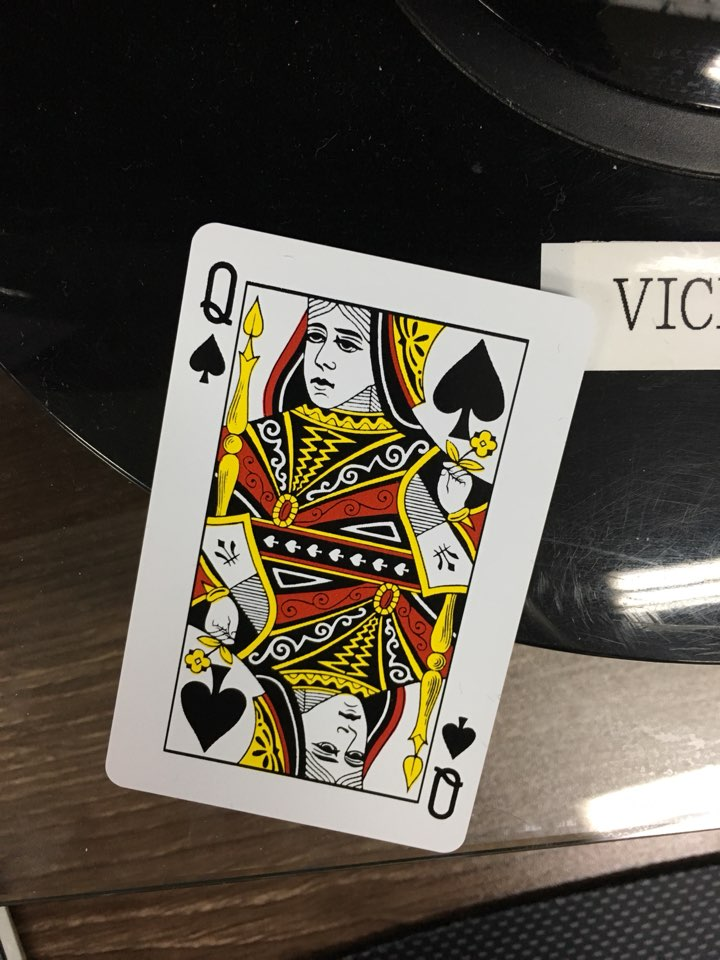queen: (74, 196, 588, 910)
